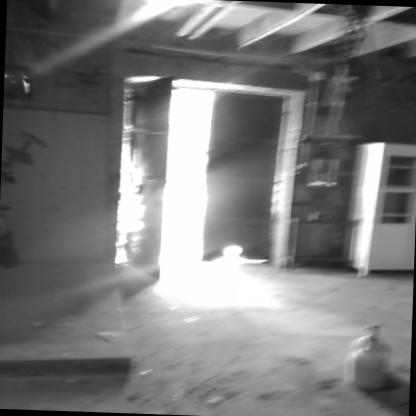semi: (96, 65, 309, 282)
